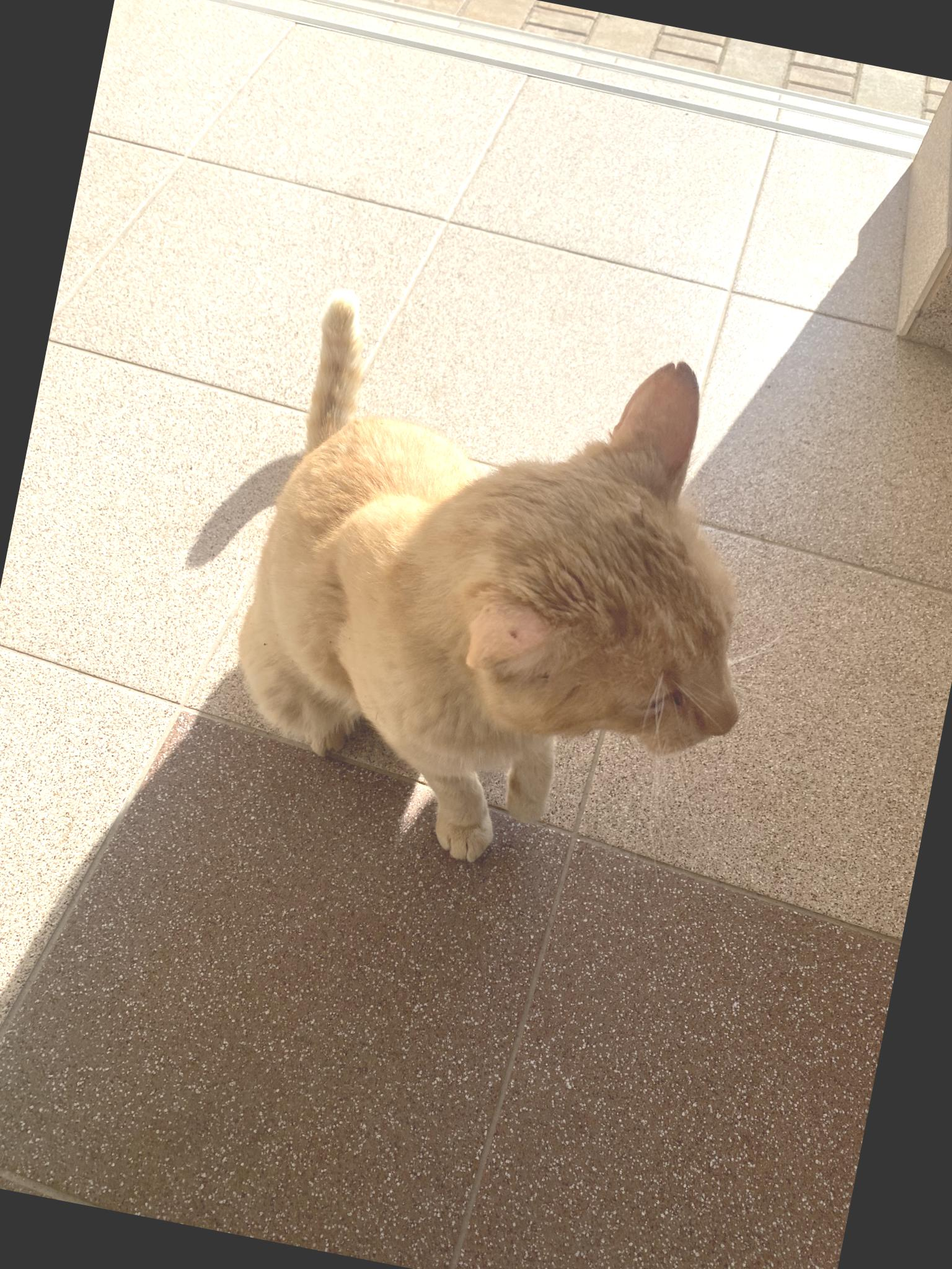macka: (202, 285, 804, 904)
